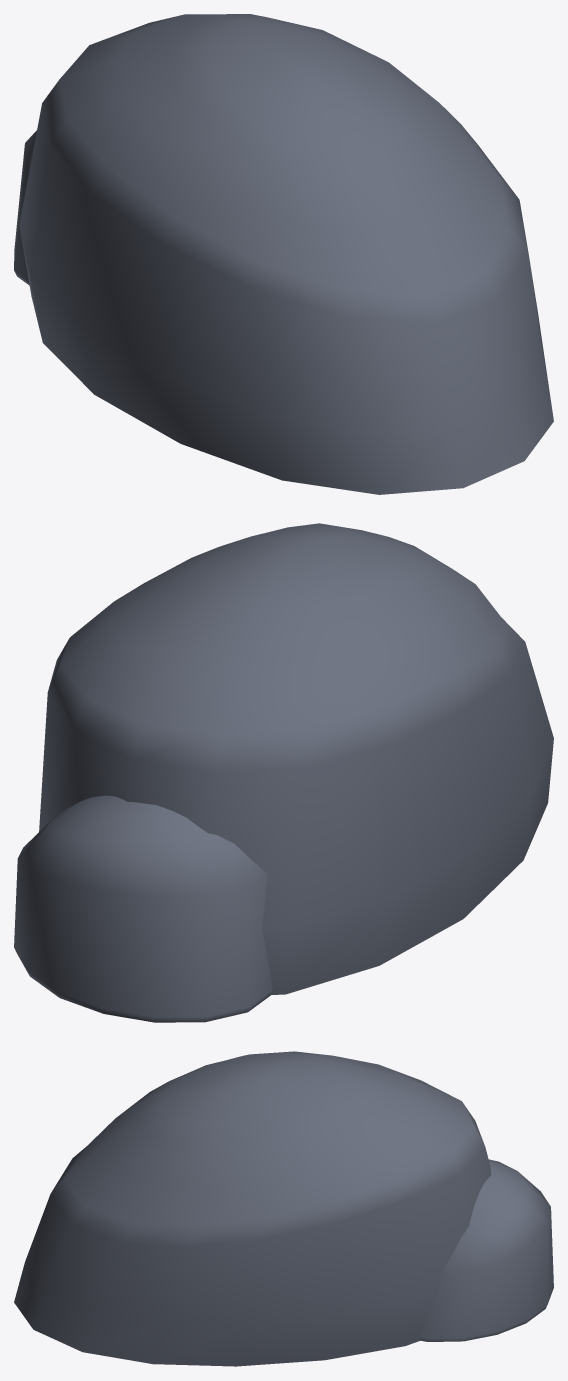
Rendered from M_rock1.fbx.
3 renders of one model, top to bottom at view 1: azimuth 30°, elevation 25°; view 2: azimuth 150°, elevation 25°; view 3: azimuth 270°, elevation 25°, orthographic. The views are drawn at different scales.
Visible parts, largest first — view 1: pSphere1, pSphere2; view 2: pSphere1, pSphere2; view 3: pSphere1, pSphere2.
Boxes of the visible parts, box(x1,y1,x2,y2) form: pSphere1: box(19, 14, 553, 494); pSphere2: box(14, 130, 36, 285); pSphere1: box(39, 523, 553, 995); pSphere2: box(14, 795, 272, 1022); pSphere1: box(14, 1051, 491, 1366); pSphere2: box(419, 1159, 553, 1341).
Bounding box in the file's own units: 19.85 × 15.51 × 32.65.
